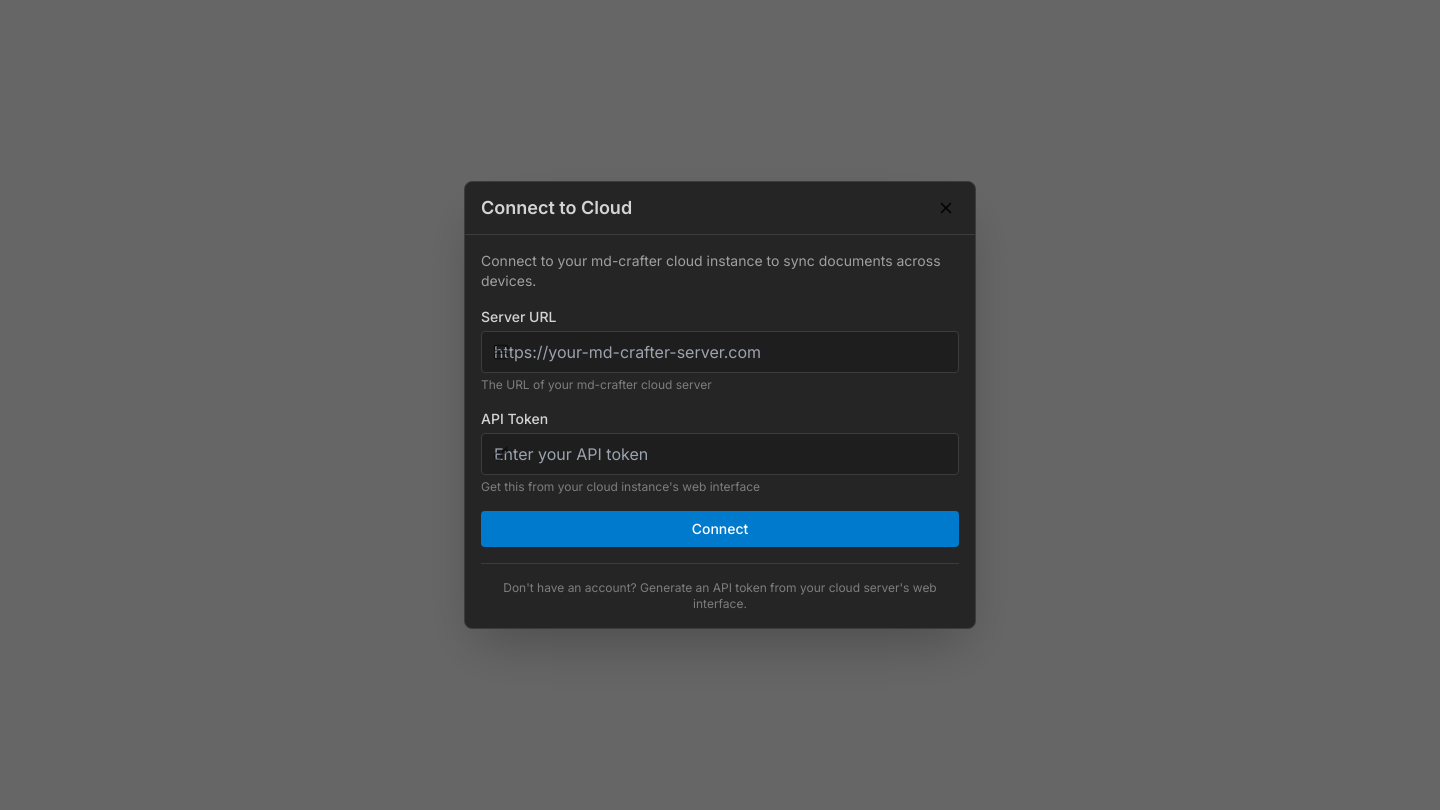
Test: AuthModal › Desktop Mode - Server URL and Token › should require server URL
Step 1. Type "token" into the password field with placeholder "Enter your API token" → (720, 454), box top-left (481, 433), bottom-right (959, 475)
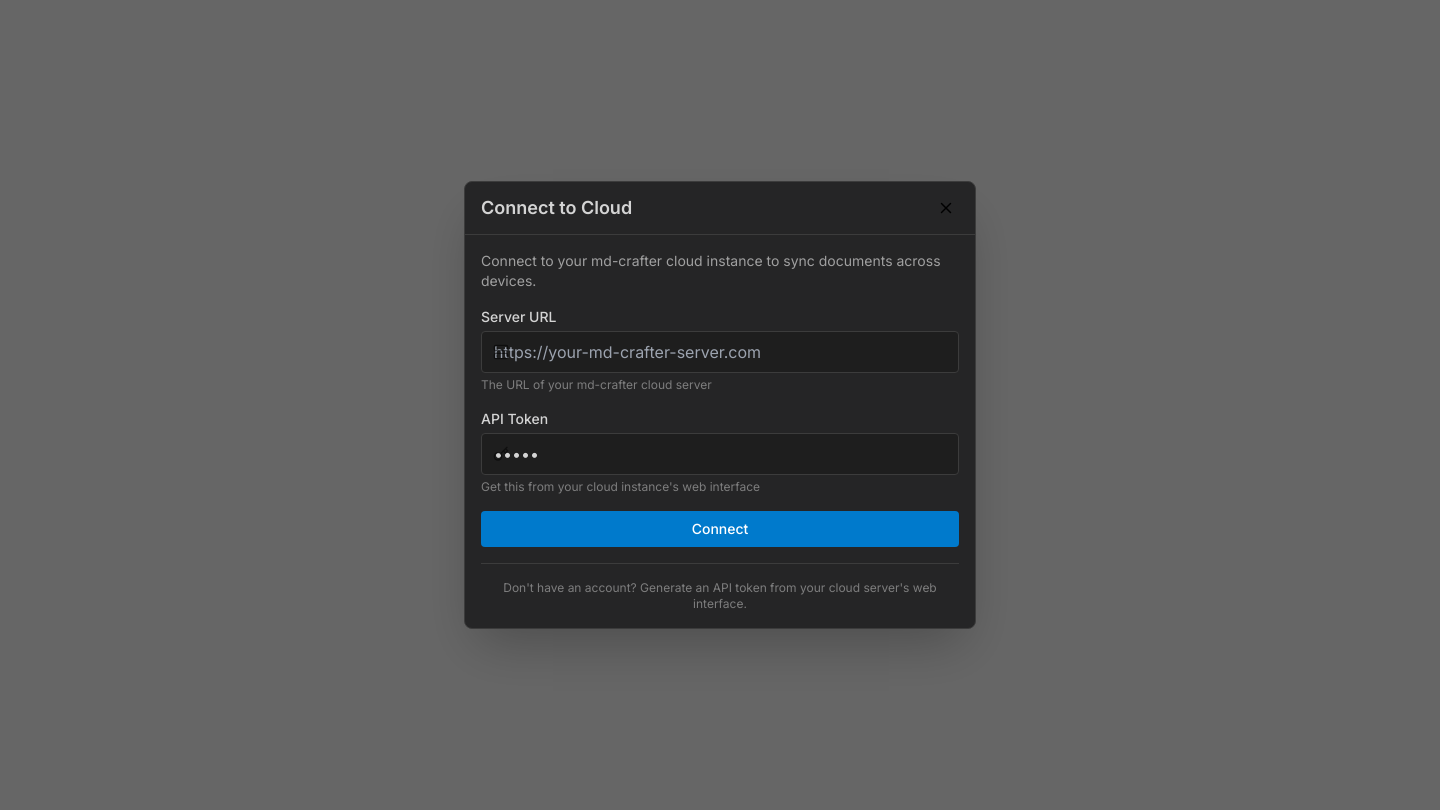
Step 2. Click the button "Connect" → (720, 529), box top-left (481, 511), bottom-right (959, 547)
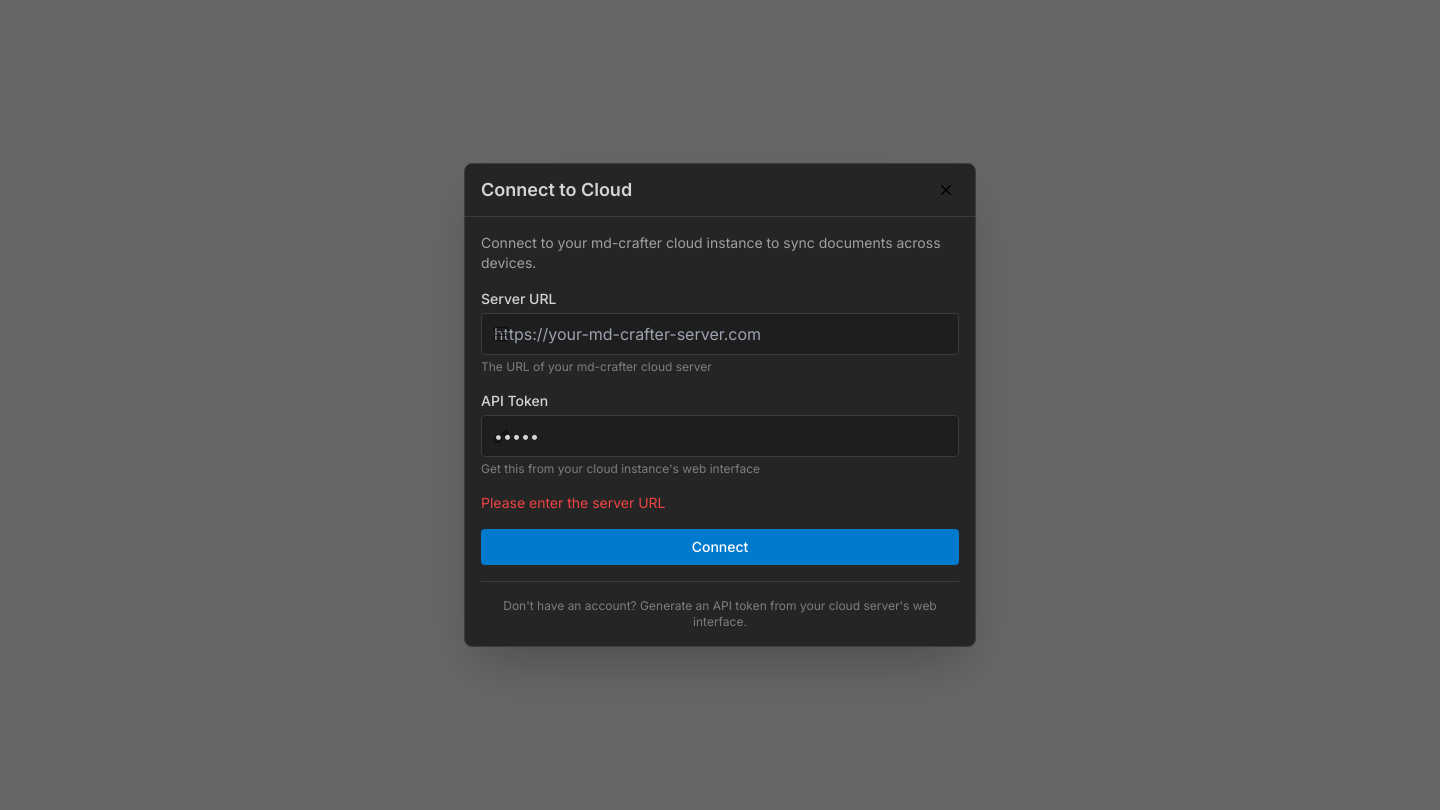
Expected: the text "Please enter the server URL" is shown, top-left (481, 494), bottom-right (666, 511)
